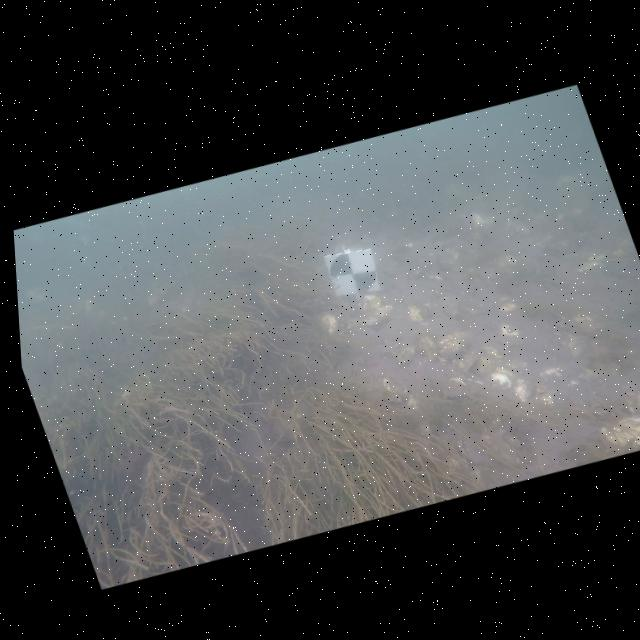Oyster-Closed: (600, 416, 640, 446), (438, 331, 472, 359), (418, 334, 440, 361), (383, 377, 408, 398), (359, 294, 381, 314), (394, 346, 415, 363)
Oyster-Indeterminate: (499, 324, 522, 346), (472, 356, 494, 375), (320, 313, 338, 333), (490, 371, 512, 387), (514, 379, 530, 401), (535, 386, 553, 404), (459, 354, 477, 372), (407, 303, 423, 323), (540, 366, 561, 379), (406, 394, 419, 409)
Oyster-Open: (360, 304, 393, 330), (442, 375, 470, 403), (455, 433, 477, 465), (423, 302, 432, 320)
